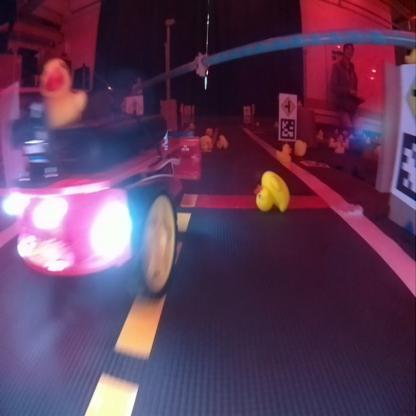Duckie: (40, 60, 86, 125), (254, 172, 288, 210), (275, 144, 292, 162), (294, 139, 306, 155)
Duckiebot: (10, 112, 183, 298)
Intersection sign: (280, 95, 295, 116)
QR code: (394, 130, 414, 204), (280, 118, 296, 138), (300, 160, 329, 166)
